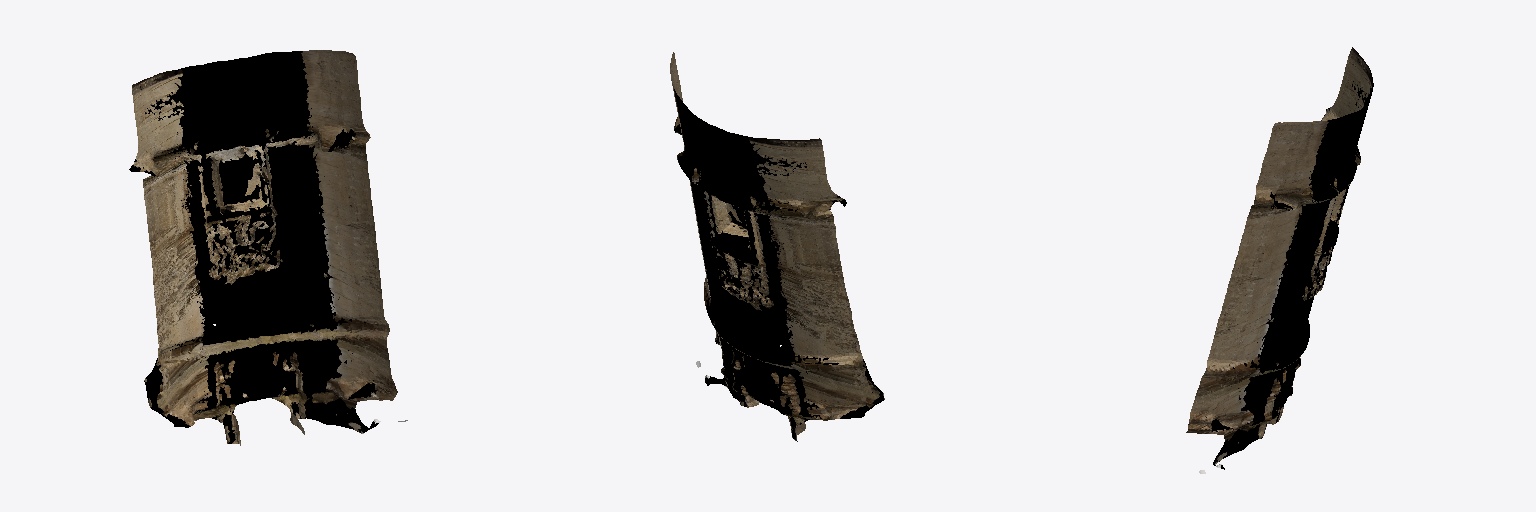
3 views of the same model, side by side, from view 1: azimuth 30°, elevation 25°; view 2: azimuth 150°, elevation 25°; view 3: azimuth 270°, elevation 25° (orthographic).
Parts seen in each view (by area): view 1: TexturedMesh; view 2: TexturedMesh; view 3: TexturedMesh.
Boxes of the visible parts, x1,y1,x2,y2 form: TexturedMesh: [129, 50, 407, 445]; TexturedMesh: [670, 52, 884, 441]; TexturedMesh: [1186, 47, 1373, 473].
Bounding box in the file's own units: 0.4098 × 0.6315 × 0.2975.
10 materials, 10 textured.